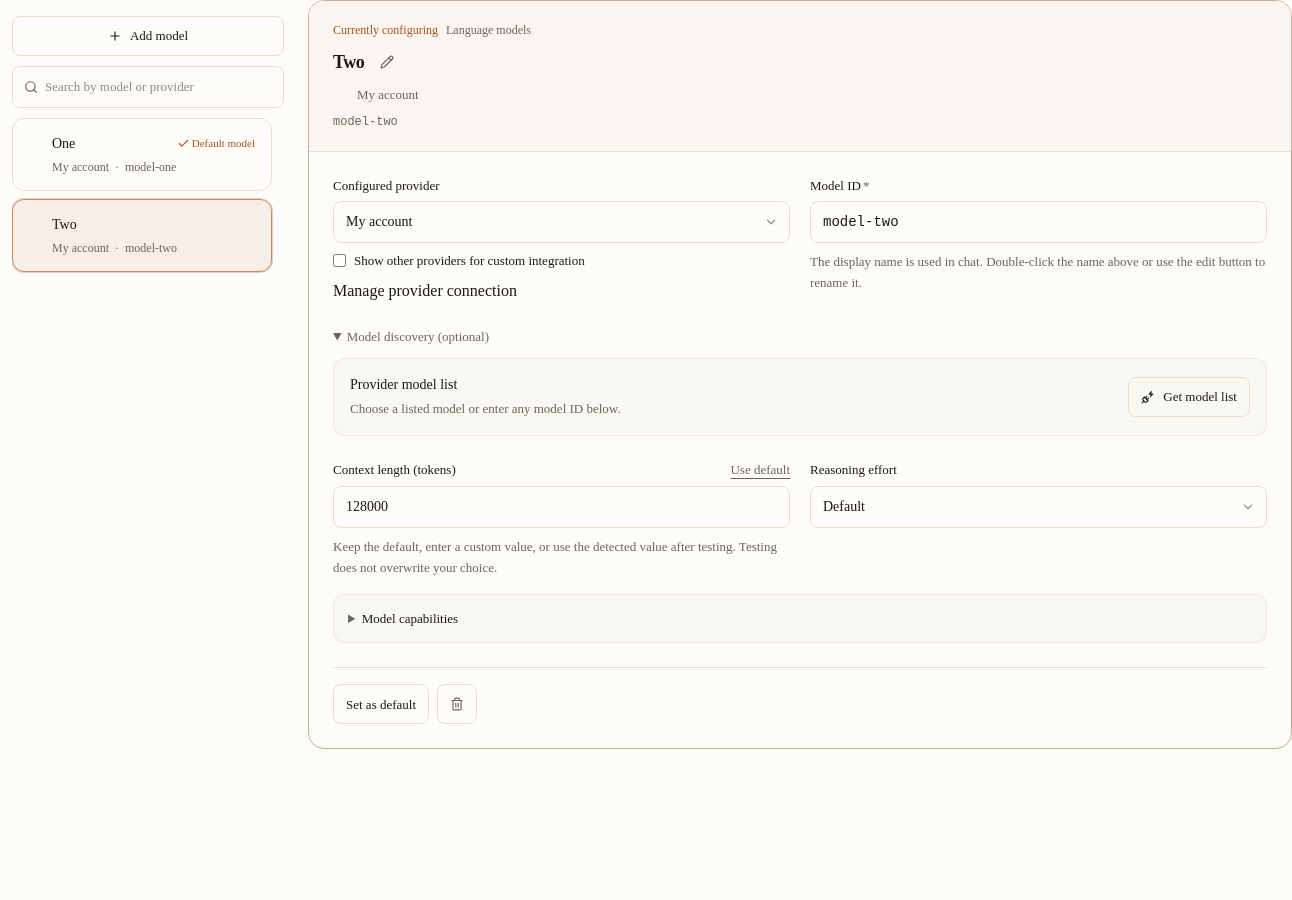
Scenario: marks a blank model ID in the editor and blocks making it the default
The width and height of the screenshot is (1292, 900).
Clear the dropdown labelled "Model ID" at (1038,222), box left=810, top=201, right=1267, bottom=243
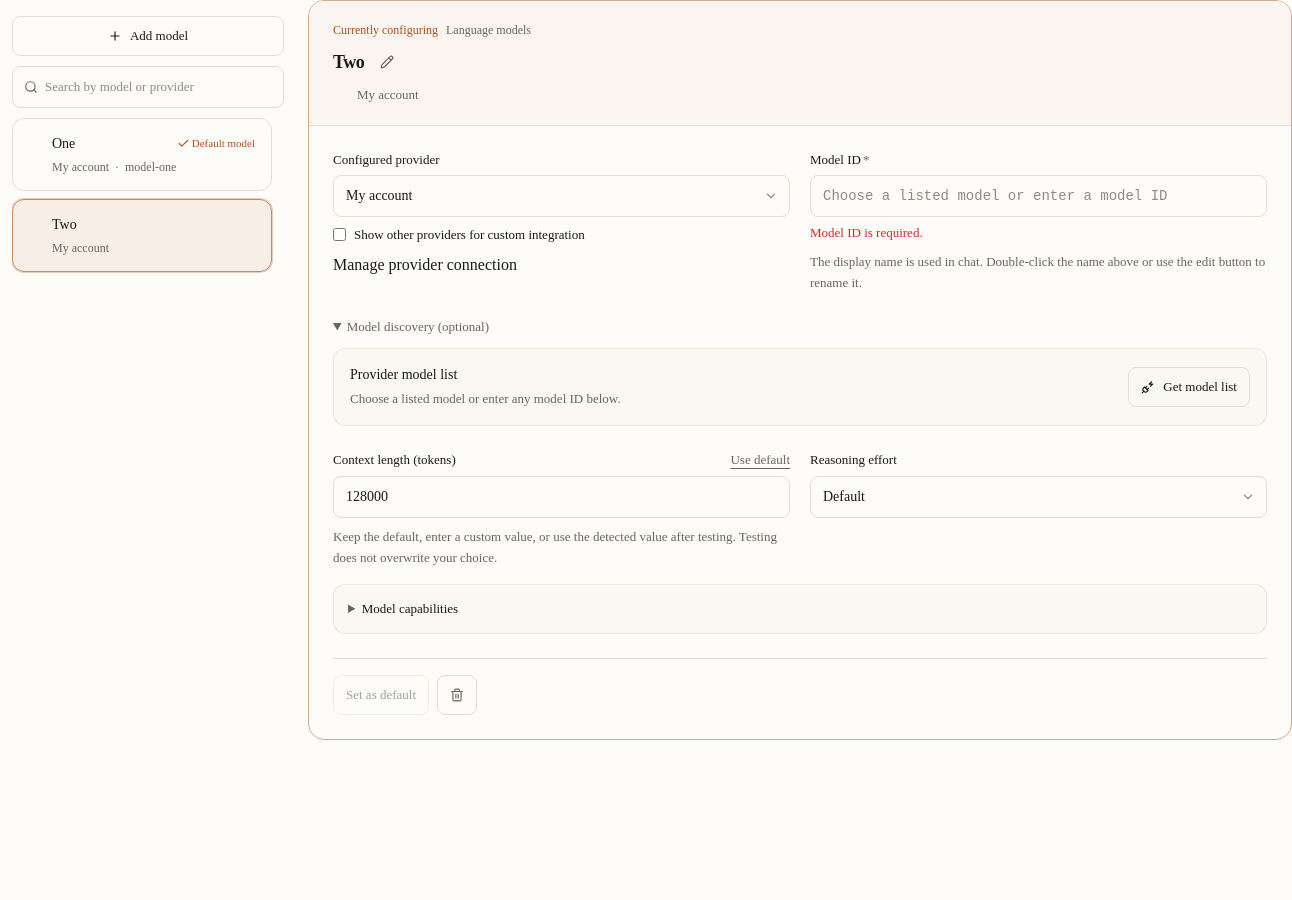
Expected: the message reads "Model ID is required.", left=810, top=225, right=923, bottom=240
Expected: the button "Set as default" is disabled, left=333, top=674, right=429, bottom=714
